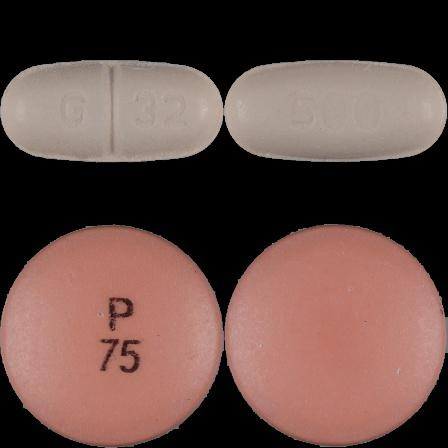70786-0190: (0, 0, 224, 224)
